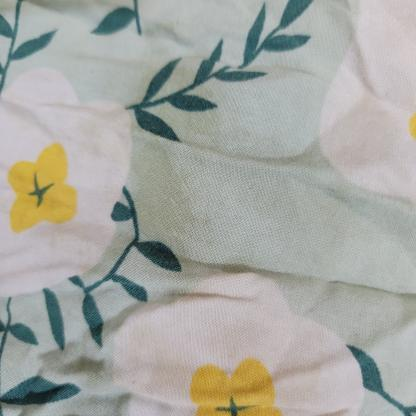spot: (133, 136, 180, 242), (153, 102, 211, 137), (144, 66, 192, 90)
